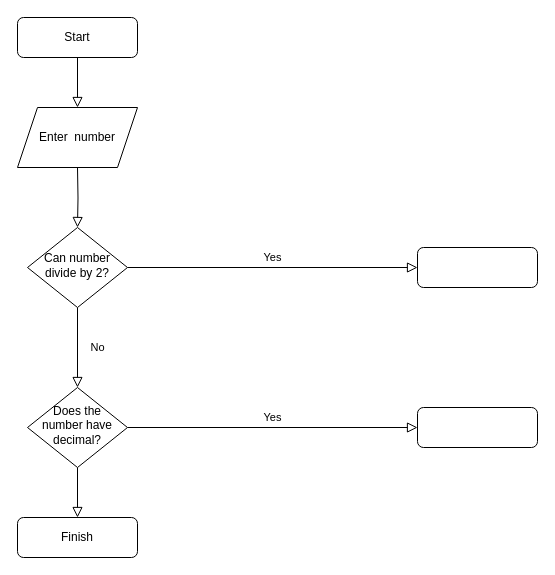
This 555x575 diagram has some shape labels left out. Here are the shapes that lost their labels. From the top down, the centre of each, then its label:
At [477,267]: "Even".
At [477,427]: "Odd".
